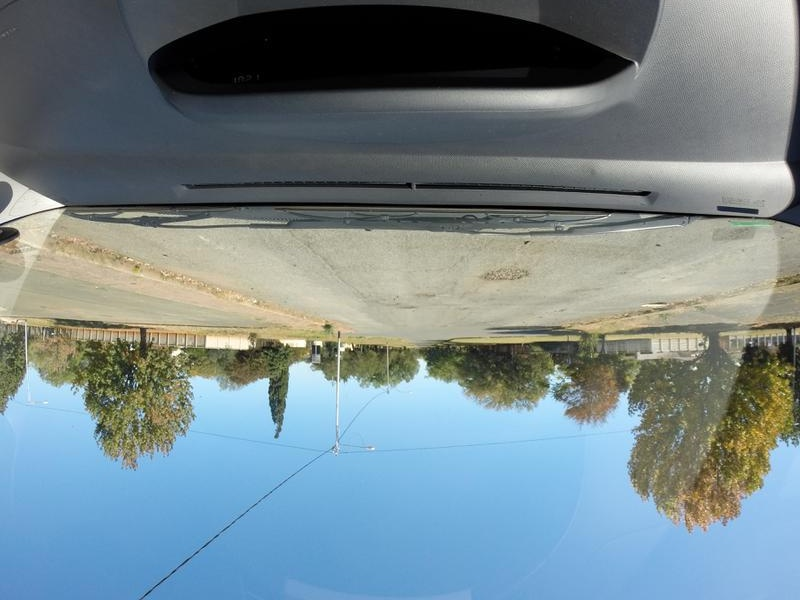pothole: (483, 268, 539, 282), (414, 289, 445, 299)
